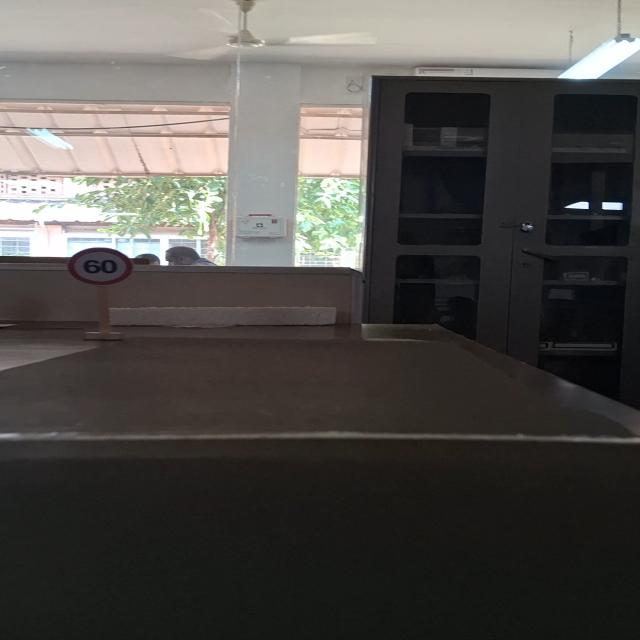Speed60: (66, 246, 134, 286)
